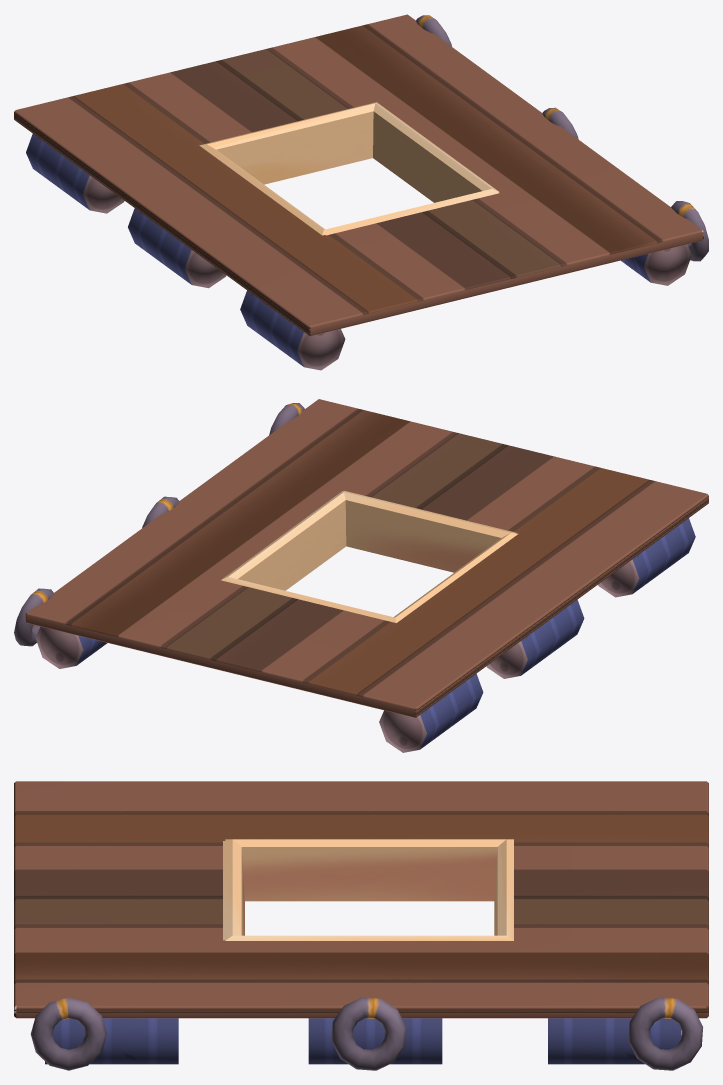
Rendered from raft_4.fbx.
3 renders of one model, top to bottom at view 1: azimuth 30°, elevation 25°; view 2: azimuth 150°, elevation 25°; view 3: azimuth 270°, elevation 25°, orthographic. The views are drawn at different scales.
Visible parts, largest first — view 1: mesh_raft4; view 2: mesh_raft4; view 3: mesh_raft4.
Part boxes in pixels (x1,y1,x2,y2): mesh_raft4: (14,14,708,370); mesh_raft4: (14,399,708,752); mesh_raft4: (14,781,708,1070).
Size of the model in its own units: 0.4949 by 0.0786 by 0.6118.
